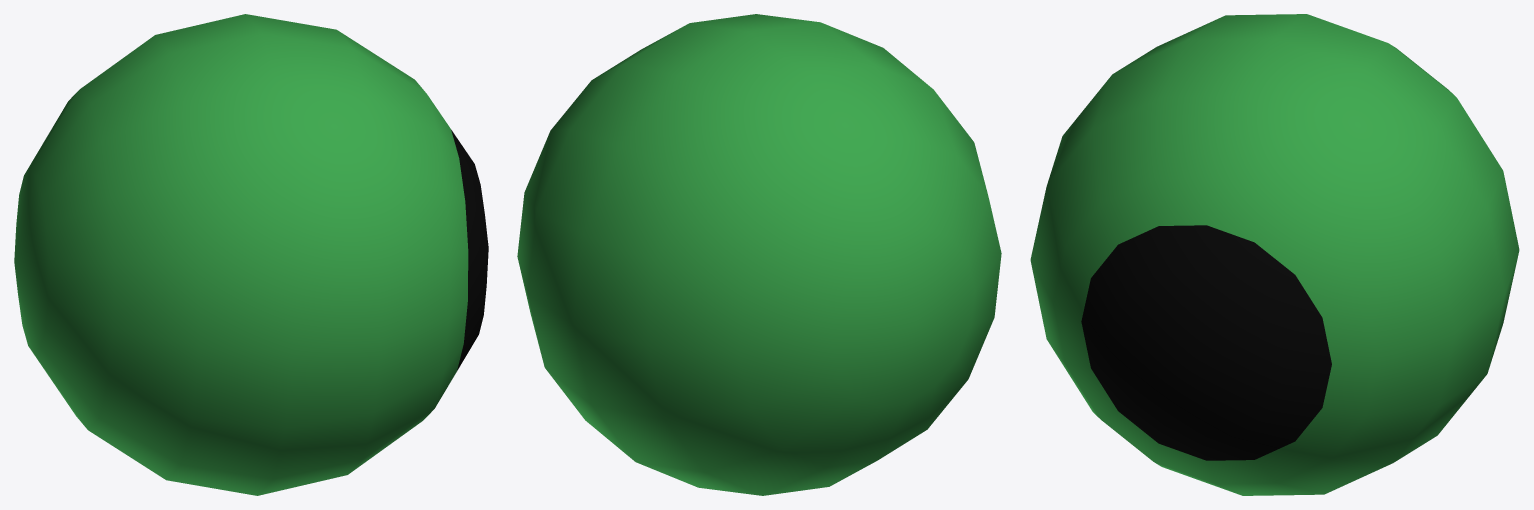
File: koi_fish_eye.obj
3 views of the same model, side by side, from view 1: azimuth 30°, elevation 25°; view 2: azimuth 150°, elevation 25°; view 3: azimuth 270°, elevation 25° (orthographic).
Visible parts, largest first — view 1: eye; view 2: eye; view 3: eye.
Part boxes in pixels (x1,y1,x2,y2): eye: (14, 14, 488, 495); eye: (517, 14, 1001, 495); eye: (1030, 14, 1519, 495).
Size of the model in its own units: 0.0102 by 0.0102 by 0.0102.
